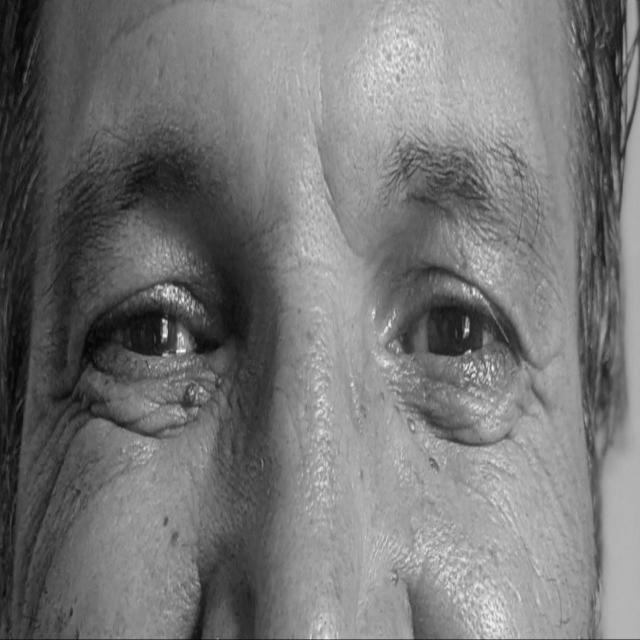real: (50, 126, 556, 492)
